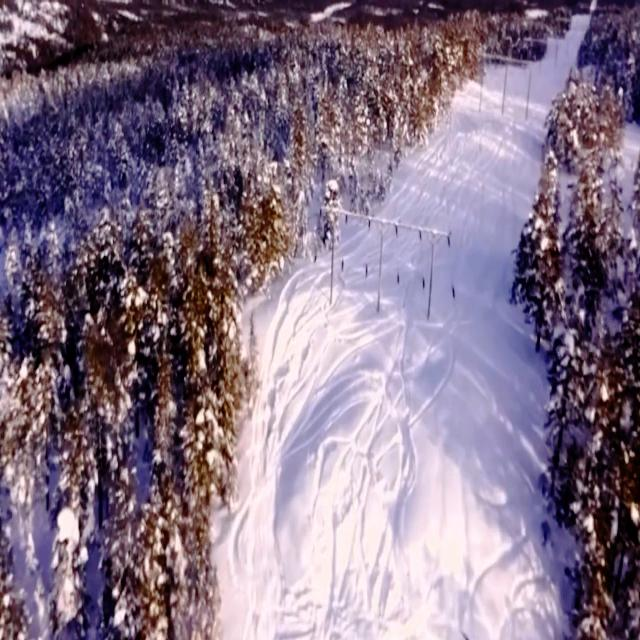poles: (320, 197, 452, 319), (376, 230, 384, 312)
